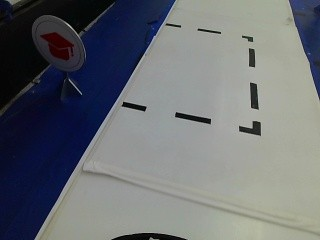school: (29, 17, 84, 73)
